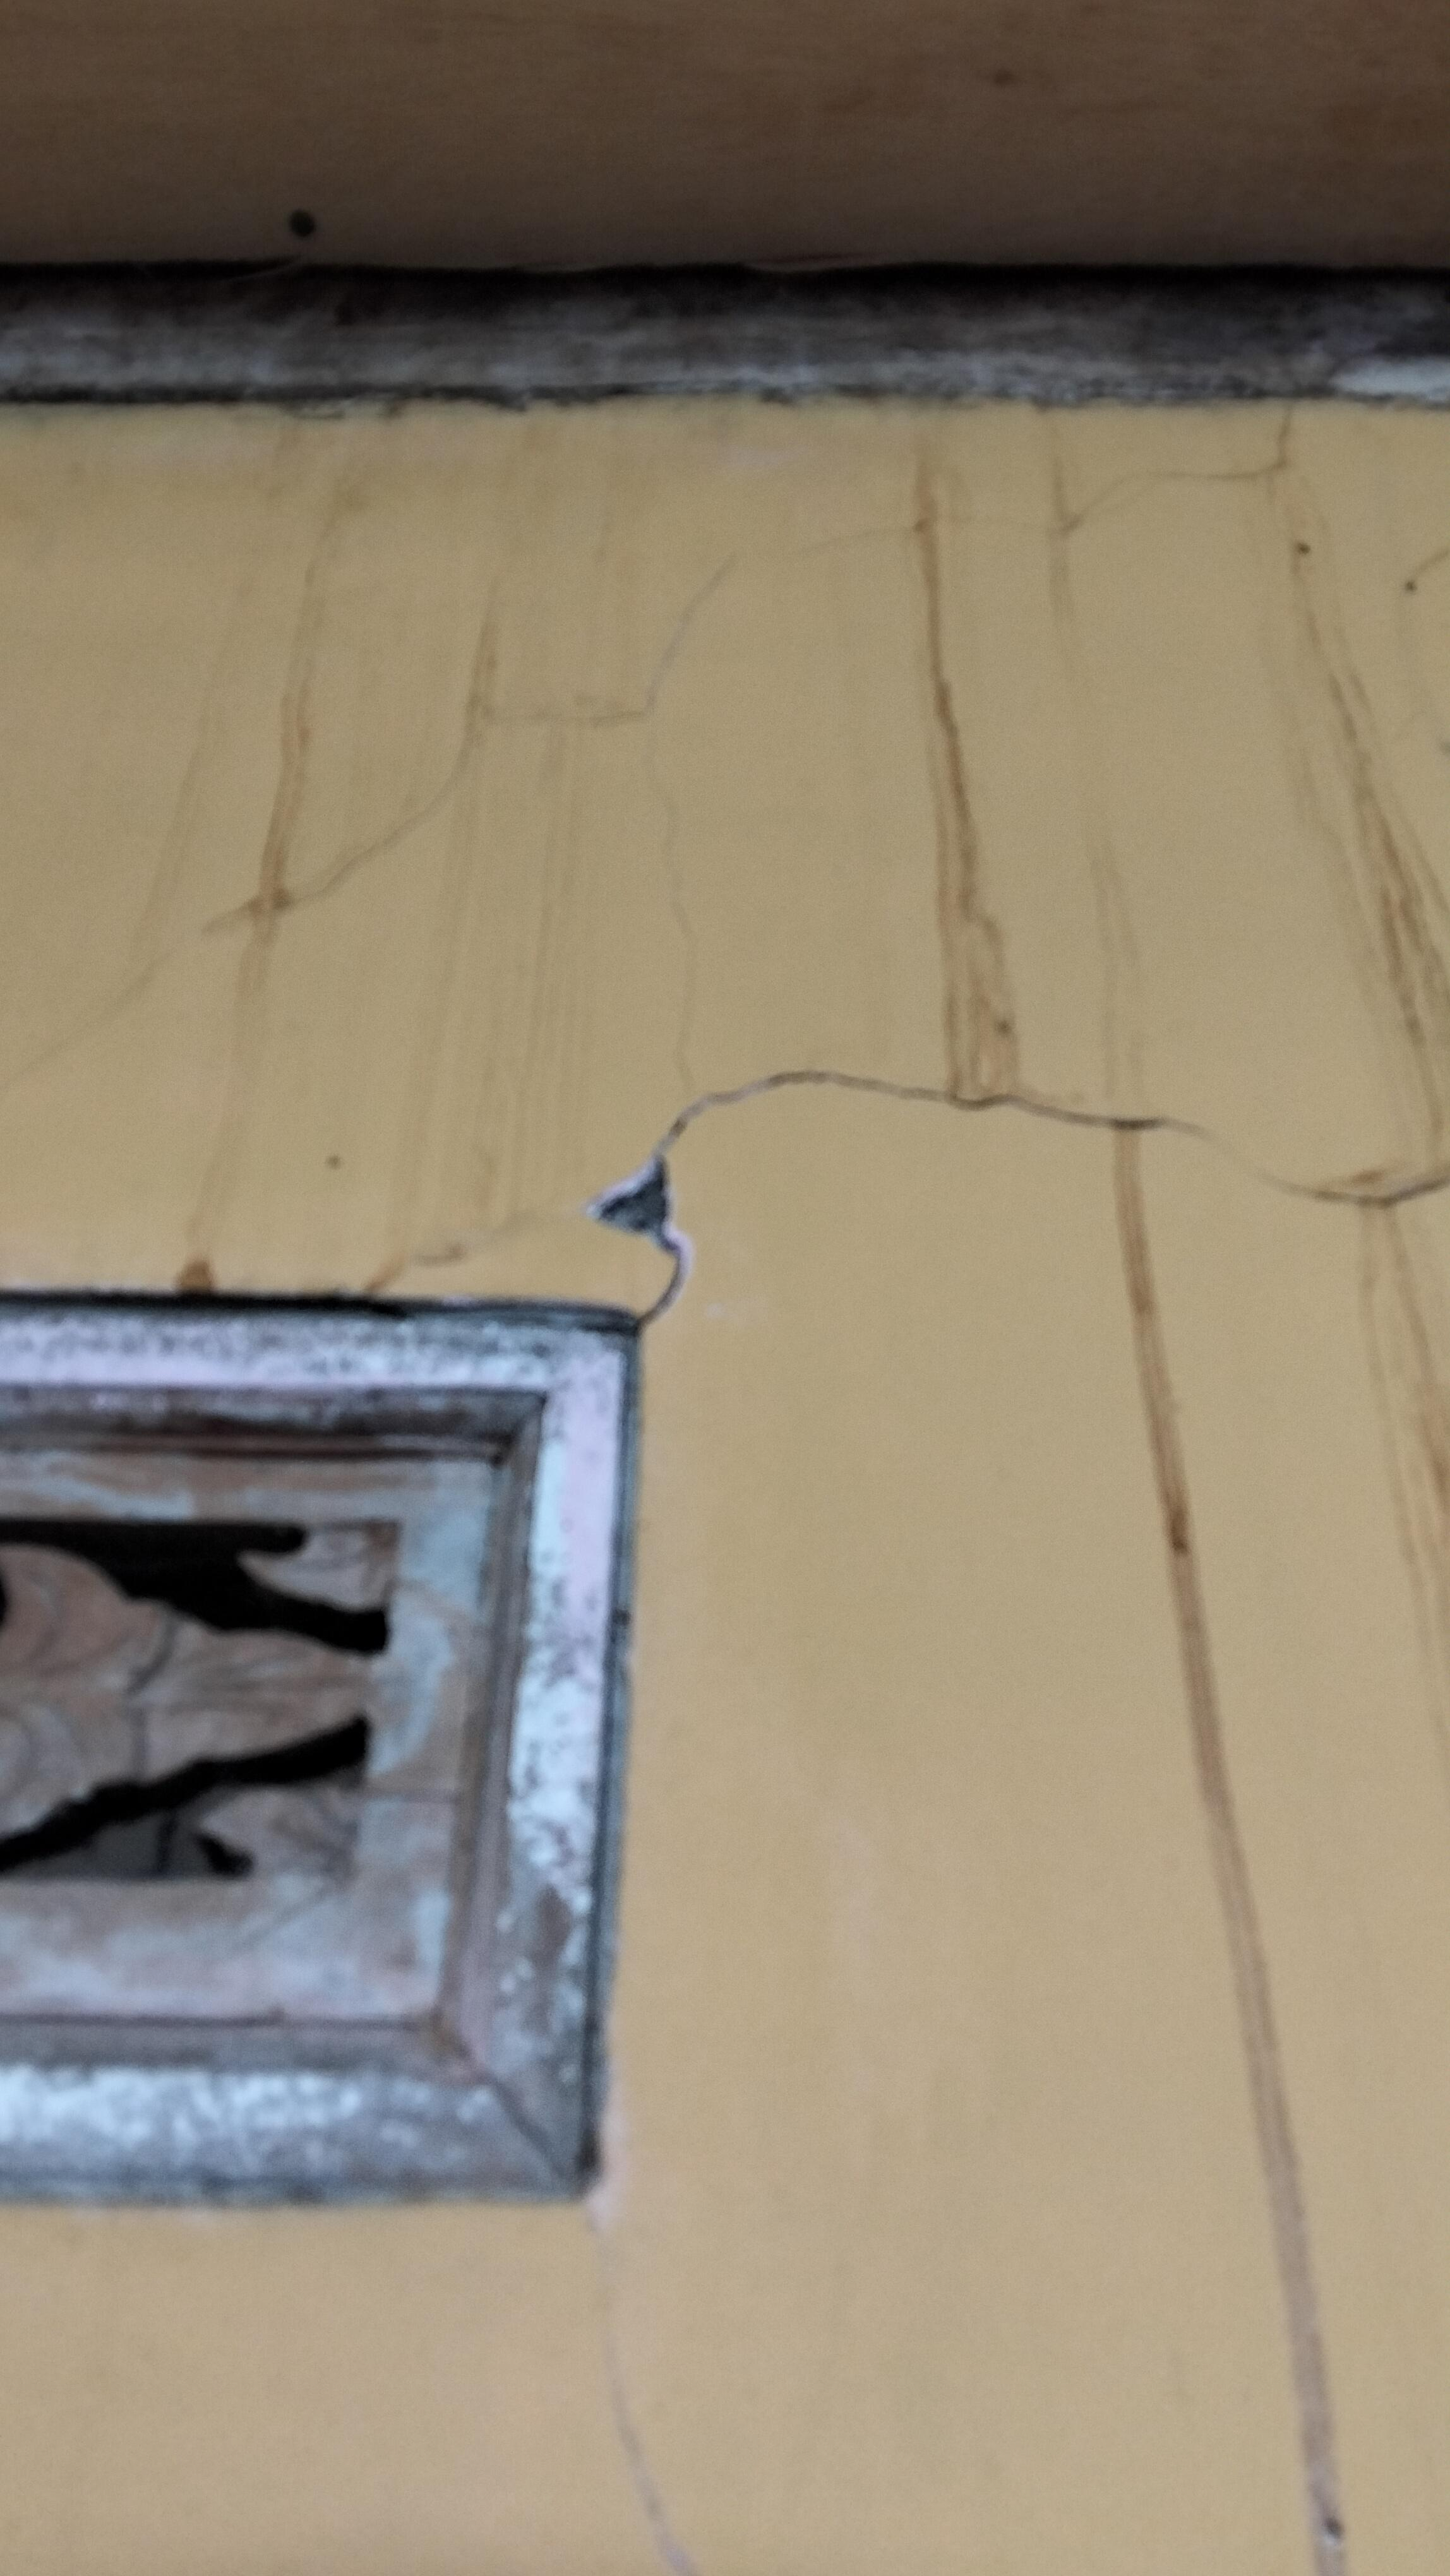Crack: (641, 1060, 940, 1343), (922, 1049, 1450, 1207), (644, 501, 914, 724), (1037, 402, 1319, 550), (627, 701, 724, 1074), (366, 1196, 597, 1304), (574, 1145, 726, 1299)
